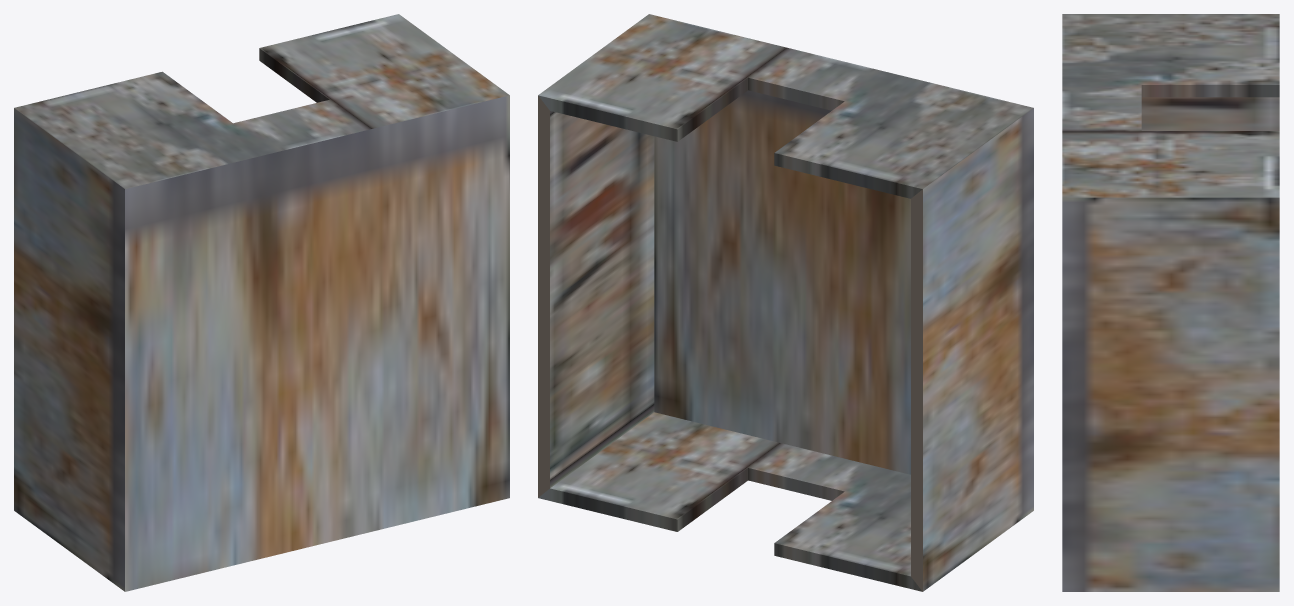
The model's file is 4x4NS_rusty_wtf.obj.
3 renders of one model, left to right at view 1: azimuth 30°, elevation 25°; view 2: azimuth 150°, elevation 25°; view 3: azimuth 270°, elevation 25°, orthographic. The views are drawn at different scales.
Visible parts, largest first — view 1: group2; view 2: group2; view 3: group2.
Boxes of the visible parts, x1,y1,x2,y2 form: group2: [14, 14, 509, 591]; group2: [538, 14, 1033, 591]; group2: [1062, 14, 1279, 591].
Size of the model in its own units: 660 by 660 by 330.
